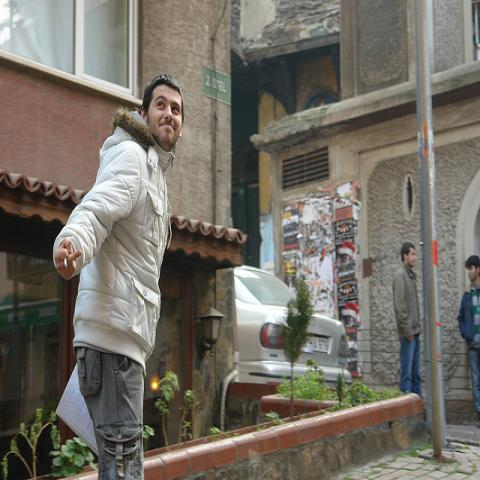car: (234, 267, 352, 390)
